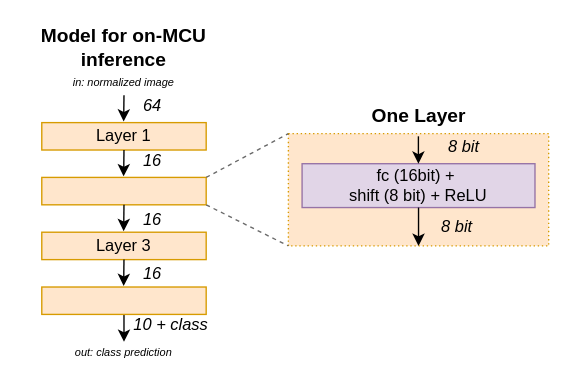
The diagram is 573 pixels wide and 385 high, and some of its shapes have lost their labels. Here are the shapes that lost their labels. From the top down, the centre of each, then its label:
At point 123,190: "Layer 2".
At point 123,300: "Last layer".
